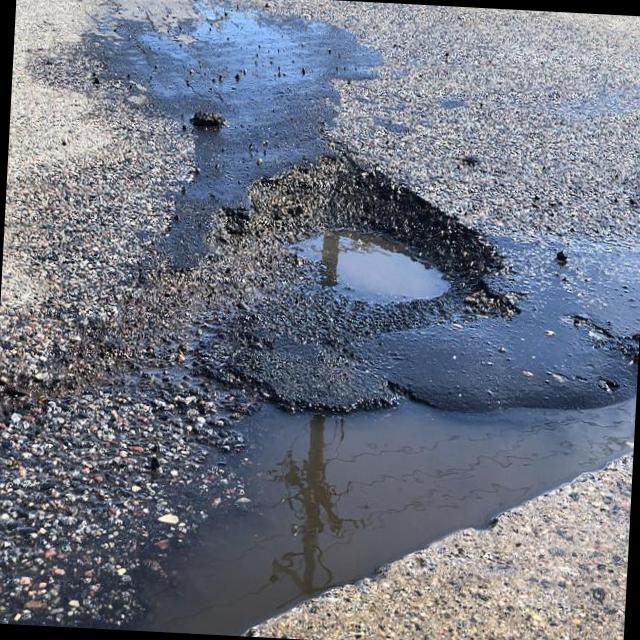Pothole: (136, 398, 636, 632), (295, 230, 450, 304)
